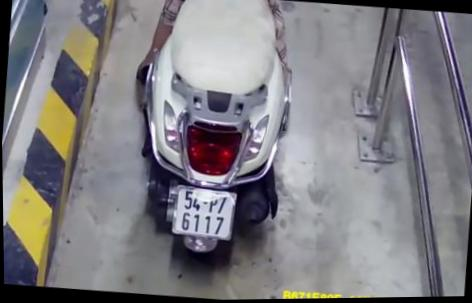LP: (169, 181, 239, 243)
